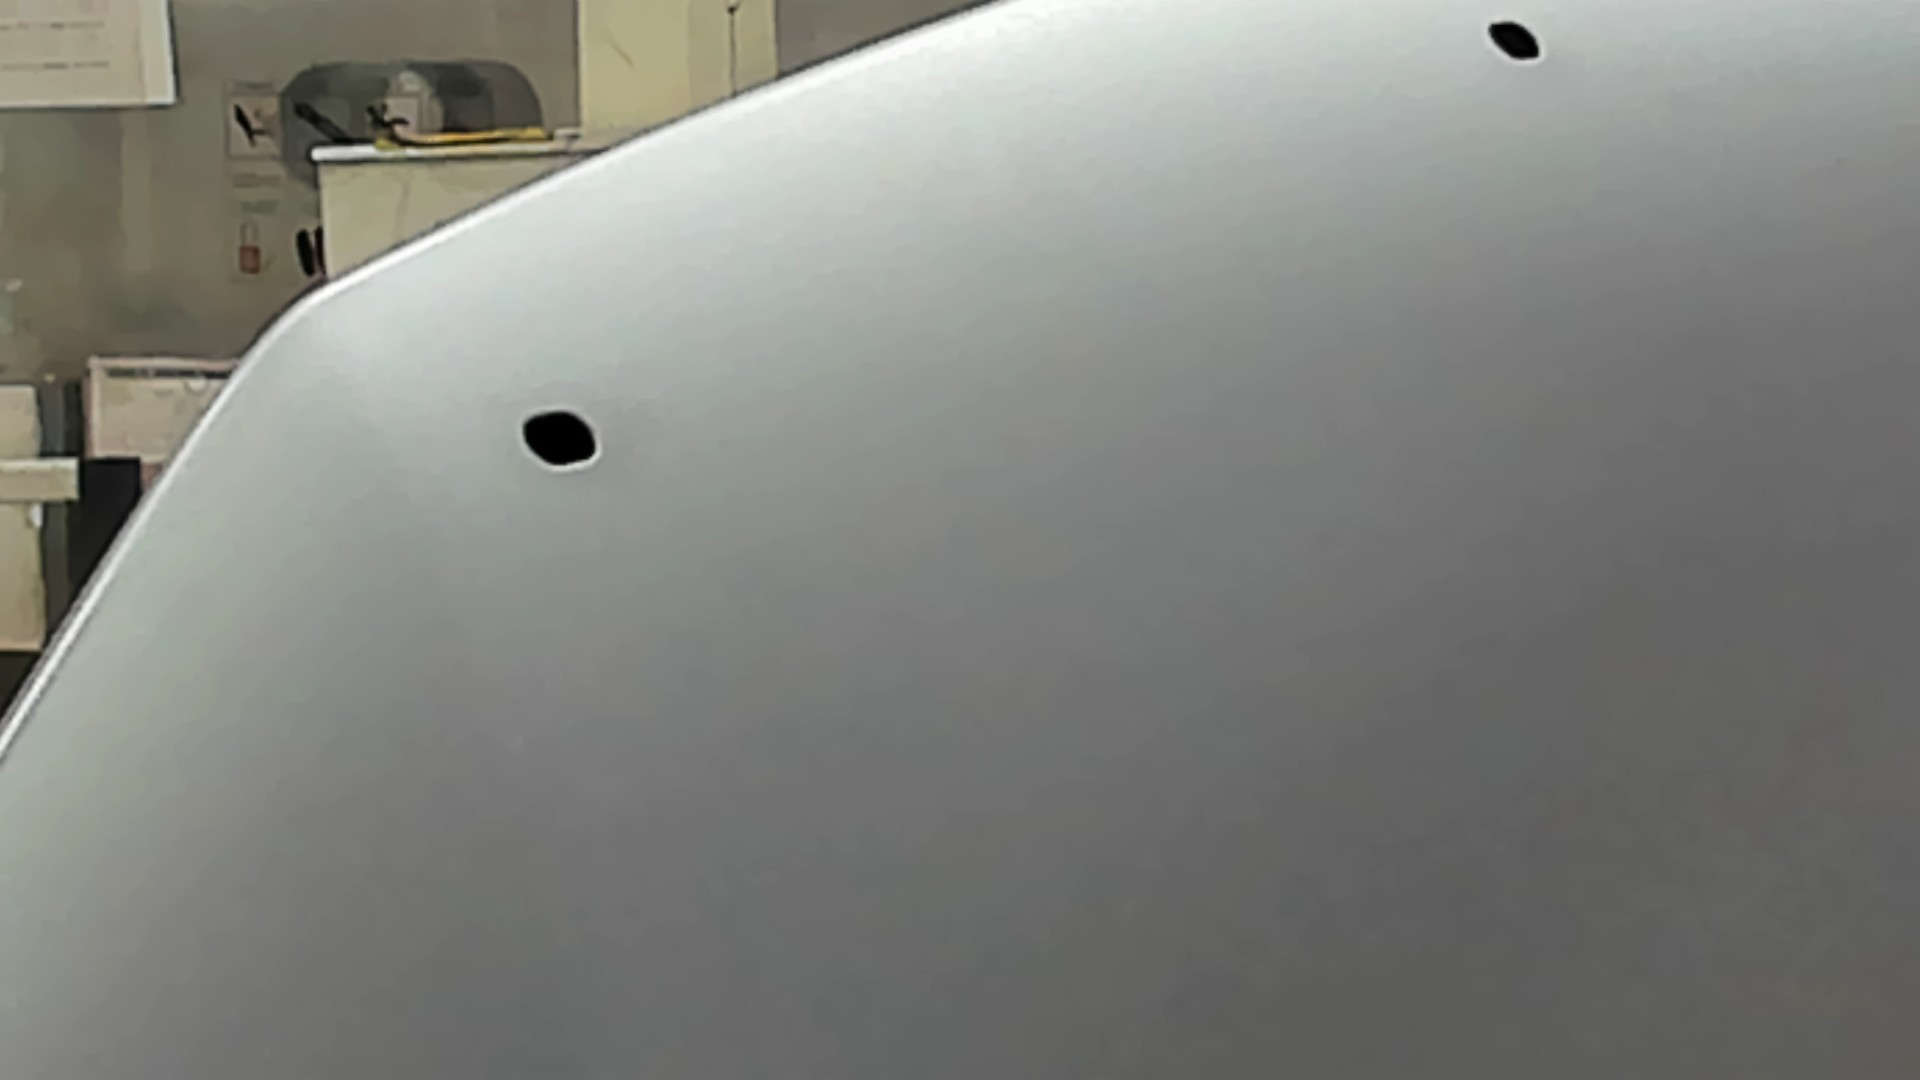Agujero: (517, 407, 607, 471), (1484, 16, 1547, 67)
